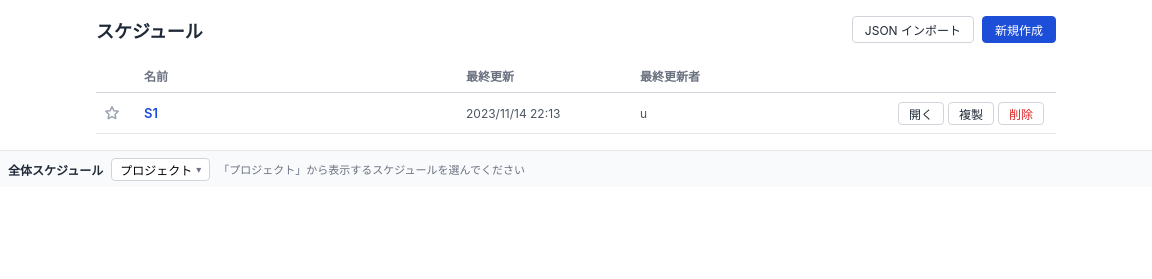
プロジェクトの絞り込みと全体スケジュールのペイン › 一覧は Escape・外側のクリックで閉じる
Check: the number of rows with test id "schedule-row" is 1, box [96,92,1056,134]
Click the button with test id "overview-filter-project" at (161, 169), box [111,158,210,180]
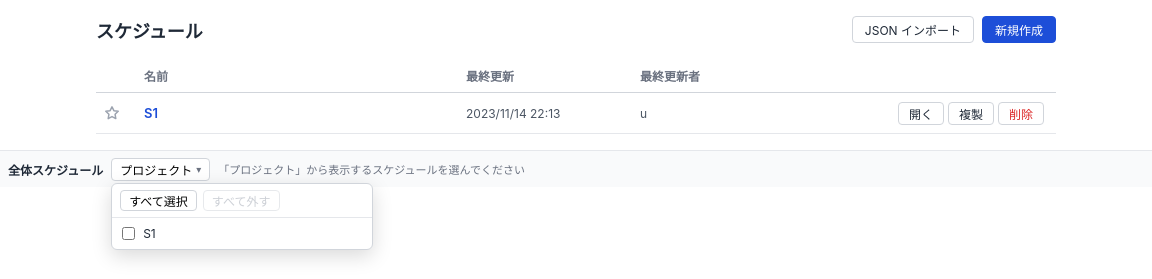
Press Escape
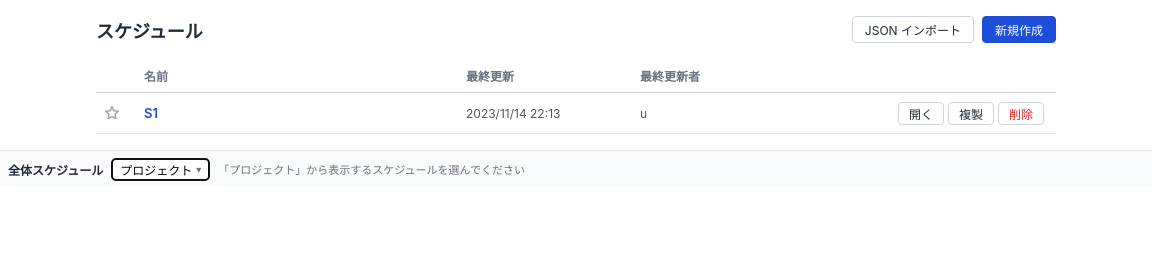
Check: the element with test id "overview-filter-project-menu" is gone
Click the button with test id "overview-filter-project" at (161, 169), box [111,158,210,180]
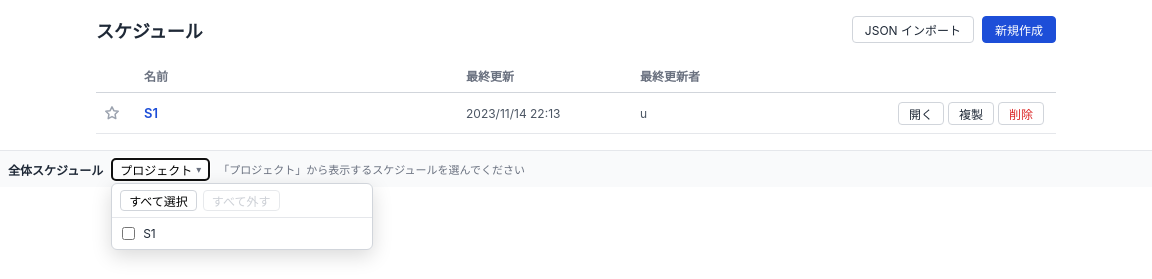
Press the mouse on the element with test id "list-page" at (576, 75), box [96,16,1056,134]
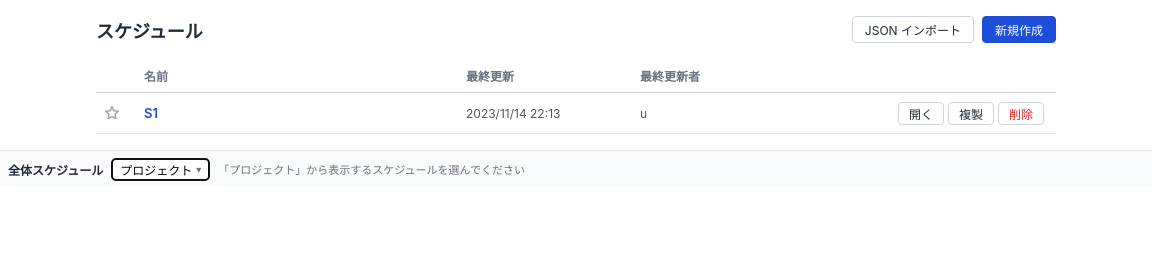
Check: the element with test id "overview-filter-project-menu" is gone
